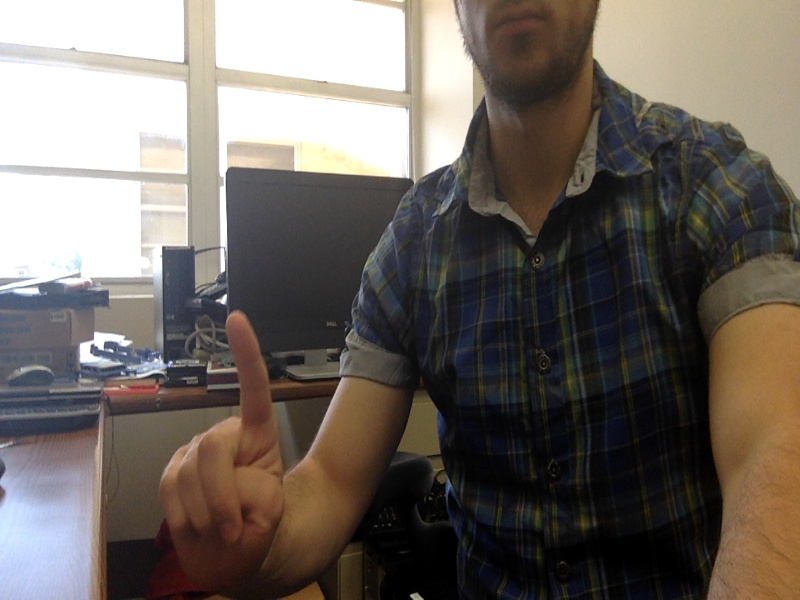1-hand: (156, 316, 282, 581)
